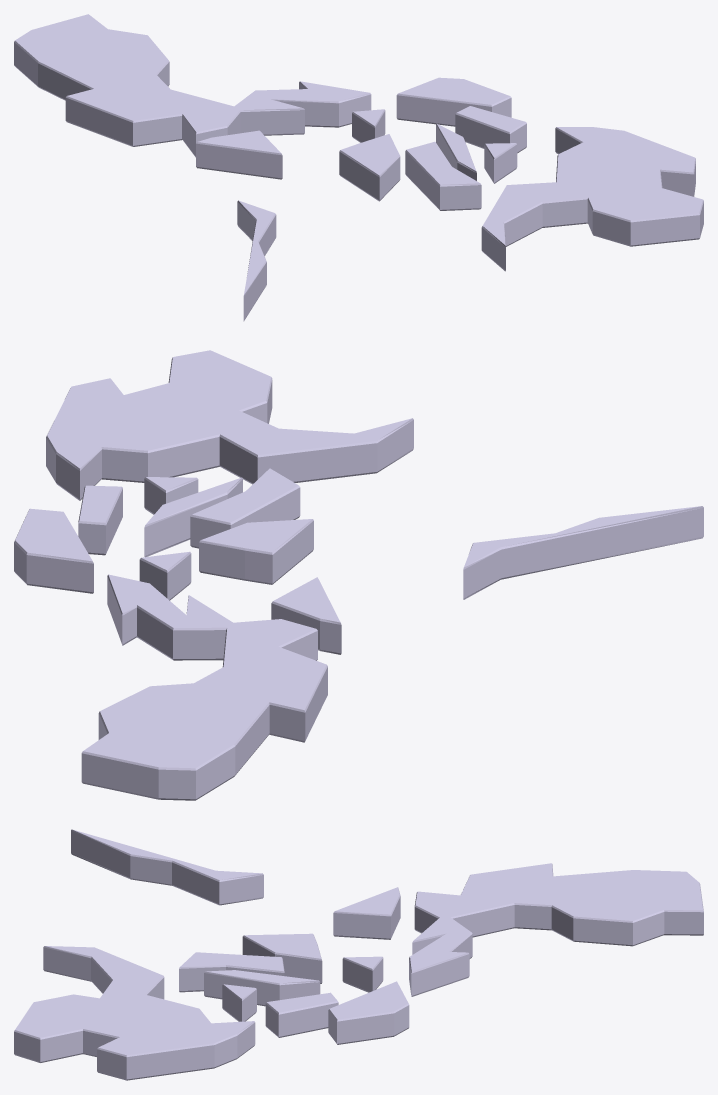
File: PHL.glb
The picture shows the model from 3 angles, top to bottom: view 1: azimuth 30°, elevation 25°; view 2: azimuth 150°, elevation 25°; view 3: azimuth 270°, elevation 25°; orthographic projection. The views are drawn at different scales.
Bounding box in the file's own units: 1.31 × 0.068 × 1.68.
